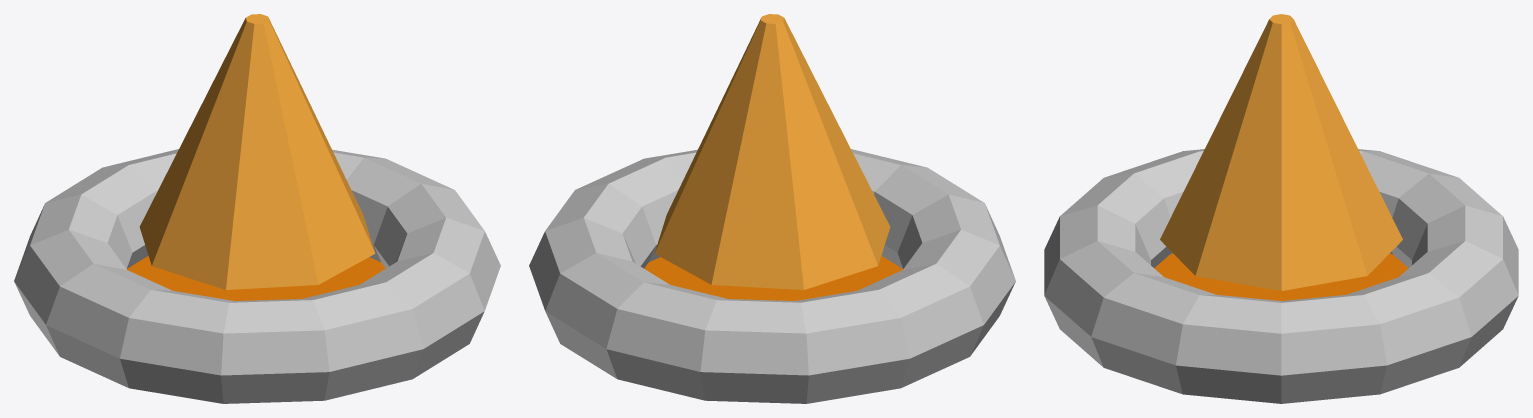
File: fire_pit.dae
3 views of the same model, side by side, from view 1: azimuth 30°, elevation 25°; view 2: azimuth 150°, elevation 25°; view 3: azimuth 270°, elevation 25° (orthographic).
Parts seen in each view (by area): view 1: Torus.003, Cone, Cylinder; view 2: Torus.003, Cone, Cylinder; view 3: Torus.003, Cone, Cylinder.
Part boxes in pixels (x1,y1,x2,y2): Torus.003: (14, 149, 500, 403); Cone: (139, 14, 375, 289); Cylinder: (127, 256, 385, 300); Torus.003: (529, 149, 1015, 403); Cone: (654, 14, 890, 289); Cylinder: (644, 256, 902, 300); Torus.003: (1044, 149, 1518, 403); Cone: (1160, 14, 1402, 290); Cylinder: (1154, 253, 1408, 300).
Bounding box in the file's own units: 160 × 156 × 110.
